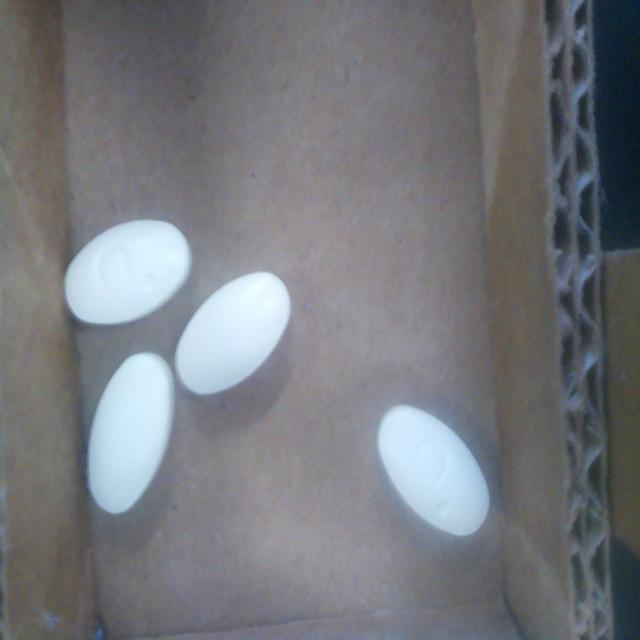pill: (378, 405, 490, 536), (175, 272, 291, 395), (87, 352, 174, 514), (64, 220, 191, 325)
